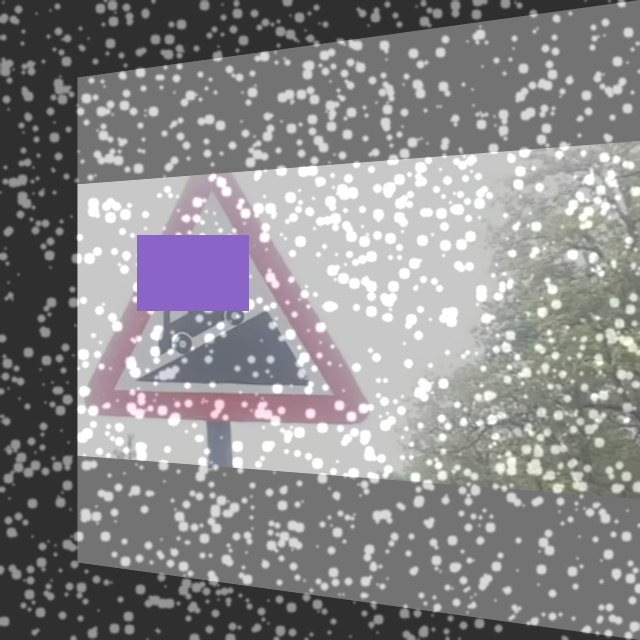Steep_Ascent: (109, 197, 347, 427)
